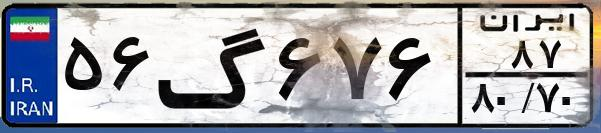0: (560, 70, 590, 125), (495, 70, 520, 125)
5: (57, 26, 110, 100)
6: (270, 28, 330, 110), (385, 28, 445, 110), (110, 28, 156, 98)
7: (330, 28, 385, 110), (537, 27, 568, 80), (535, 70, 560, 125)
8: (508, 27, 537, 80), (470, 70, 495, 125)
گ: (156, 12, 270, 120)
